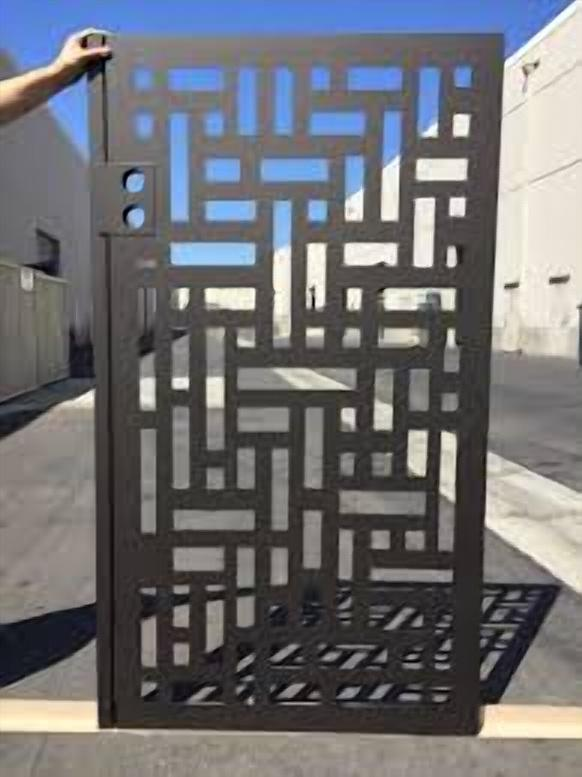Building: (221, 0, 582, 356), (0, 41, 185, 416)
Gate: (84, 29, 503, 739)
Window-without-grill: (34, 226, 60, 279)
